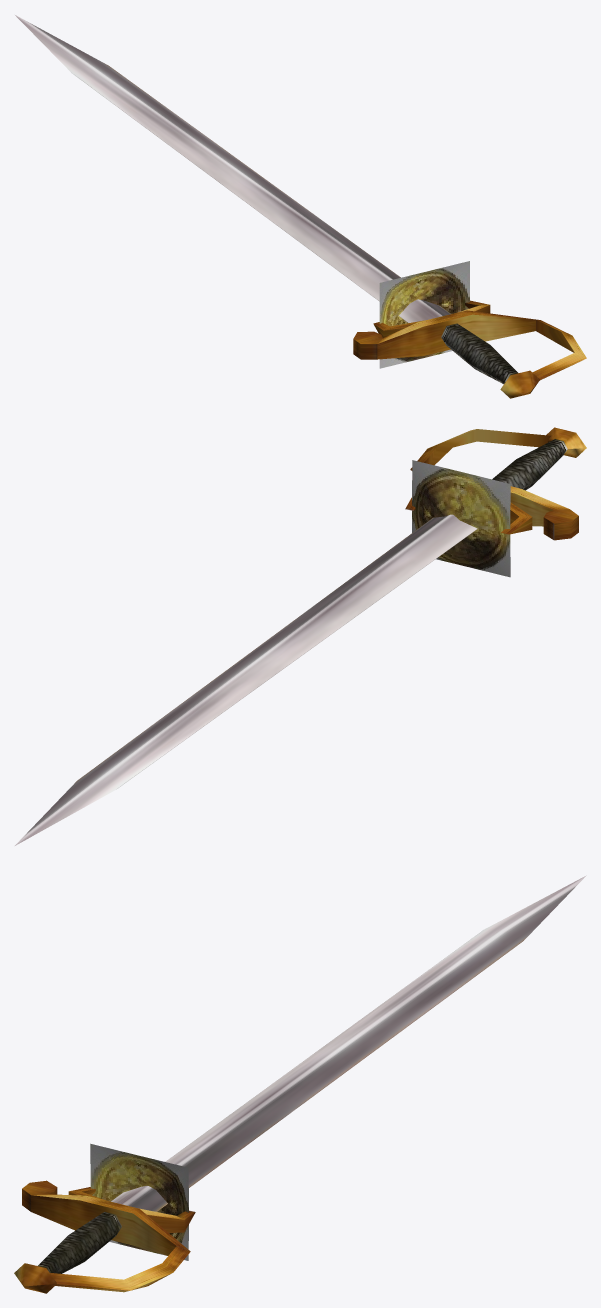
The model's file is pir_m_hnd_swd_sabre_f.fbx.
The picture shows the model from 3 angles, top to bottom: view 1: azimuth 30°, elevation 25°; view 2: azimuth 150°, elevation 25°; view 3: azimuth 330°, elevation 25°; orthographic projection. The views are drawn at different scales.
Parts seen in each view (by area): view 1: blade, guard, hilt_top, grip, guard_ring, hilt_bottom; view 2: blade, hilt_top, guard, grip, hilt_bottom, guard_ring; view 3: blade, guard, hilt_top, grip, guard_ring, hilt_bottom.
Part boxes in pixels (bbox=[...]): blade: bbox=[15, 15, 450, 322]; guard: bbox=[353, 310, 586, 380]; hilt_top: bbox=[379, 261, 469, 368]; grip: bbox=[441, 323, 539, 398]; guard_ring: bbox=[373, 300, 490, 337]; hilt_bottom: bbox=[379, 262, 466, 366]; blade: bbox=[15, 514, 477, 845]; hilt_top: bbox=[412, 460, 510, 577]; guard: bbox=[410, 429, 578, 540]; grip: bbox=[492, 427, 586, 490]; hilt_bottom: bbox=[414, 461, 510, 575]; guard_ring: bbox=[405, 497, 532, 534]; blade: bbox=[111, 875, 586, 1211]; guard: bbox=[22, 1180, 190, 1292]; hilt_top: bbox=[90, 1143, 188, 1260]; grip: bbox=[14, 1212, 121, 1293]; guard_ring: bbox=[68, 1187, 195, 1232]; hilt_bottom: bbox=[90, 1144, 187, 1254].
Bounding box in the file's own units: 74.16 × 34.64 × 378.
2 materials, 2 textured.
